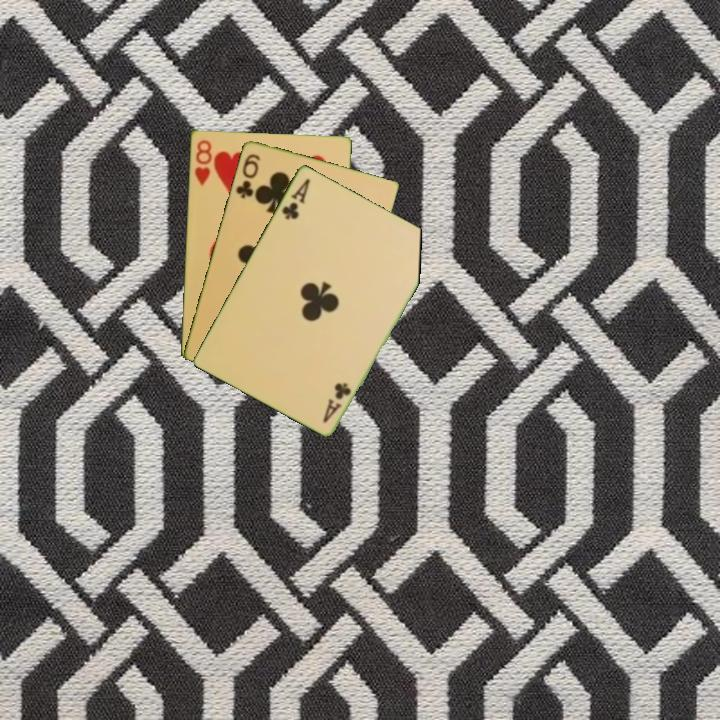6c: (232, 150, 263, 201)
8h: (191, 136, 214, 188)
Ac: (278, 174, 313, 222), (319, 378, 354, 425)
